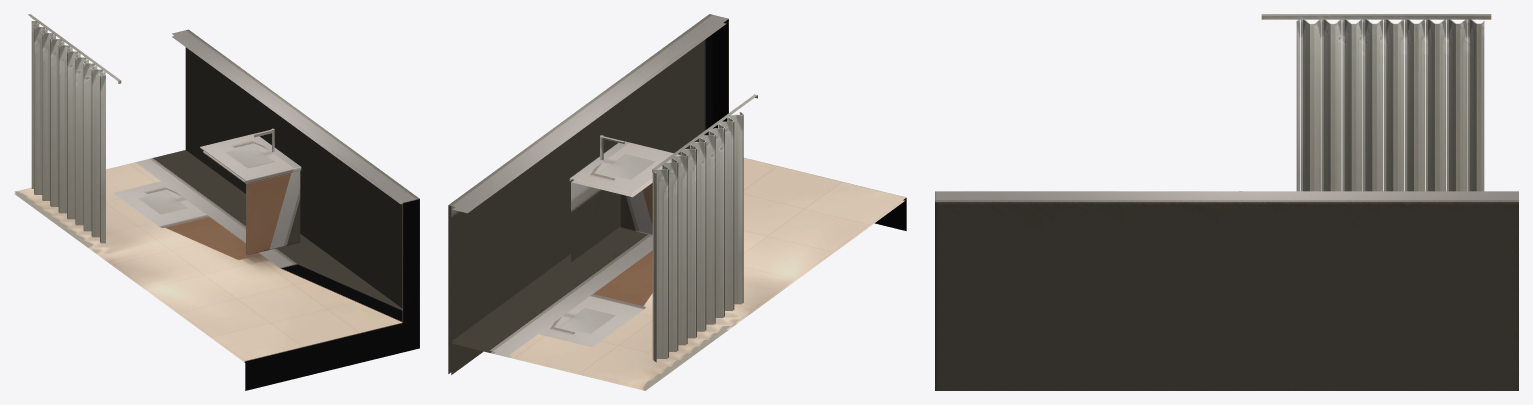
Rendered from side-right.glb.
3 renders of one model, left to right at view 1: azimuth 30°, elevation 25°; view 2: azimuth 150°, elevation 25°; view 3: azimuth 270°, elevation 25°, orthographic. The views are drawn at different scales.
Visible parts, largest first — view 1: sideRight; view 2: sideRight; view 3: sideRight.
Boxes of the visible parts, x1,y1,x2,y2 form: sideRight: [14, 14, 419, 390]; sideRight: [448, 14, 906, 390]; sideRight: [935, 14, 1518, 390].
Bounding box in the file's own units: 1.83 × 2.15 × 4.2.
1 material, 1 textured.
